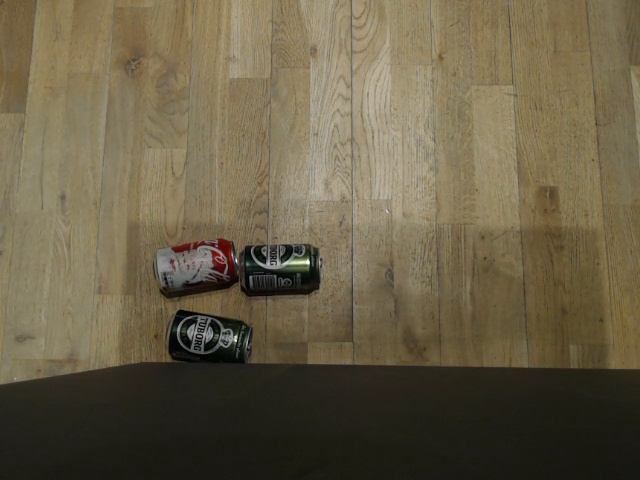beer: (239, 237, 327, 299), (160, 310, 255, 364)
cola: (138, 234, 231, 295)
